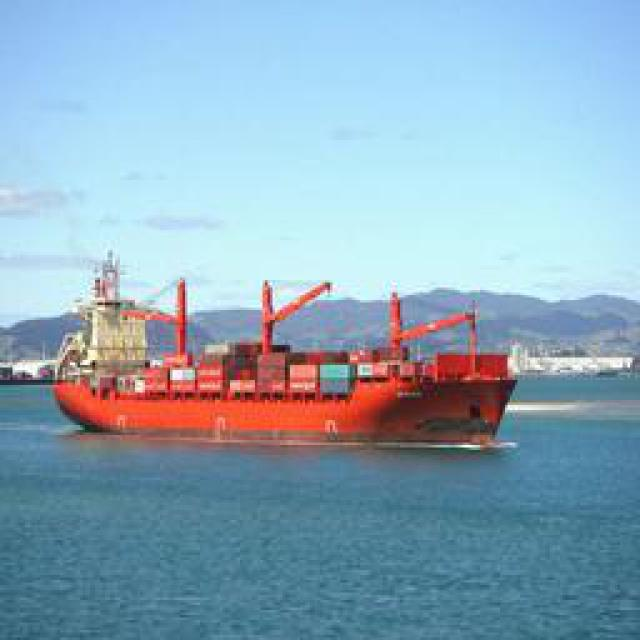Ship: (40, 268, 523, 453)
